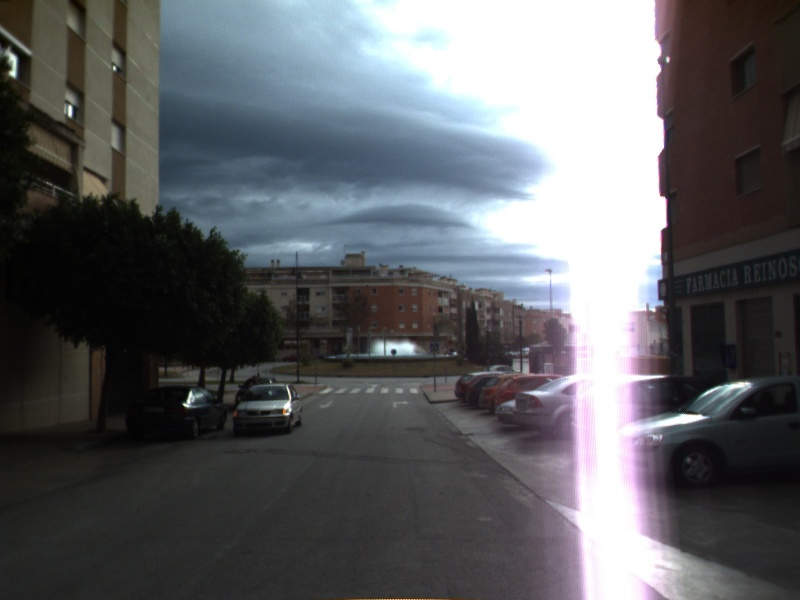RIGHT: (390, 398, 412, 410)
